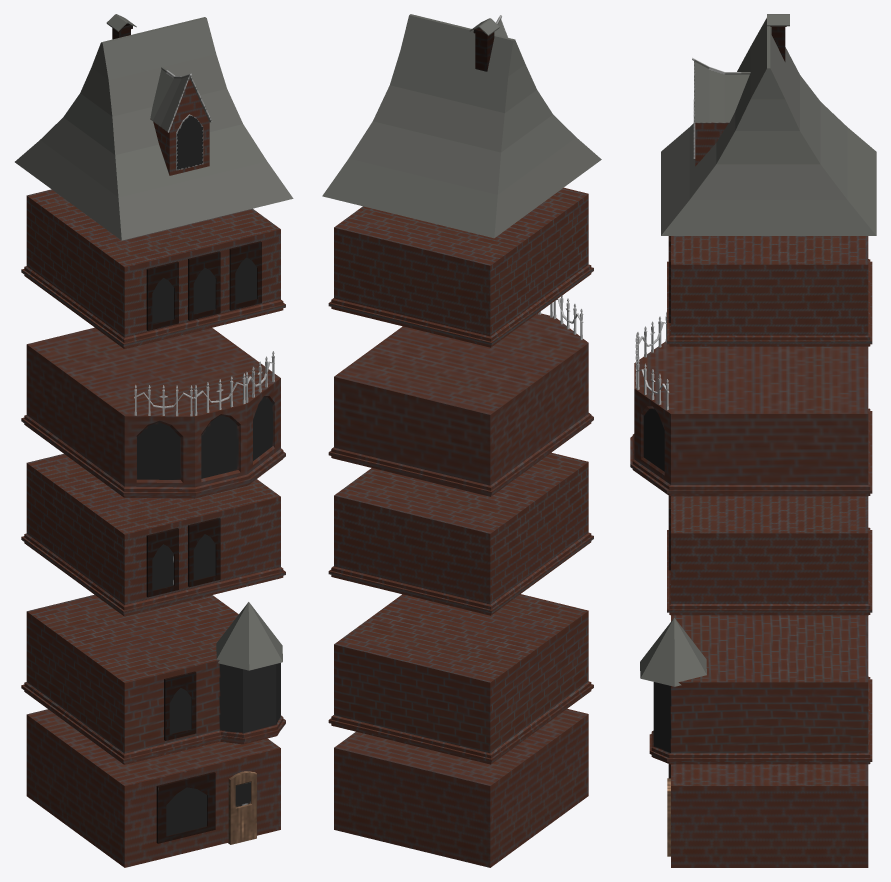
File: House2.fbx
3 renders of one model, left to right at view 1: azimuth 30°, elevation 25°; view 2: azimuth 150°, elevation 25°; view 3: azimuth 270°, elevation 25°, orthographic.
Visible parts, largest first — view 1: Cube.041, Cube.042, Cylinder.006, Cube.043, Cube.018, Cube.044; view 2: Cube.041, Cube.042, Cylinder.006, Cube.043, Cube.018, Cube.044; view 3: Cube.042, Cylinder.006, Cube.041, Cube.043, Cube.018, Cube.044.
Part boxes in pixels (x1,y1,x2,y2): Cube.041: (15,14,293,240); Cube.042: (21,327,285,498); Cylinder.006: (21,594,285,764); Cube.043: (21,454,285,616); Cube.018: (21,189,285,348); Cube.044: (26,709,280,867); Cube.041: (322,14,601,238); Cube.042: (328,295,593,496); Cylinder.006: (328,594,593,764); Cube.043: (328,452,593,615); Cube.018: (328,187,593,347); Cube.044: (334,708,588,867); Cube.042: (630,312,872,496); Cylinder.006: (640,615,872,764); Cube.041: (661,14,876,235); Cube.043: (667,496,872,615); Cube.018: (667,236,872,346); Cube.044: (667,764,868,867).
Size of the model in its own units: 550 by 2446 by 680.
Materials: 1 (1 with a texture image).
